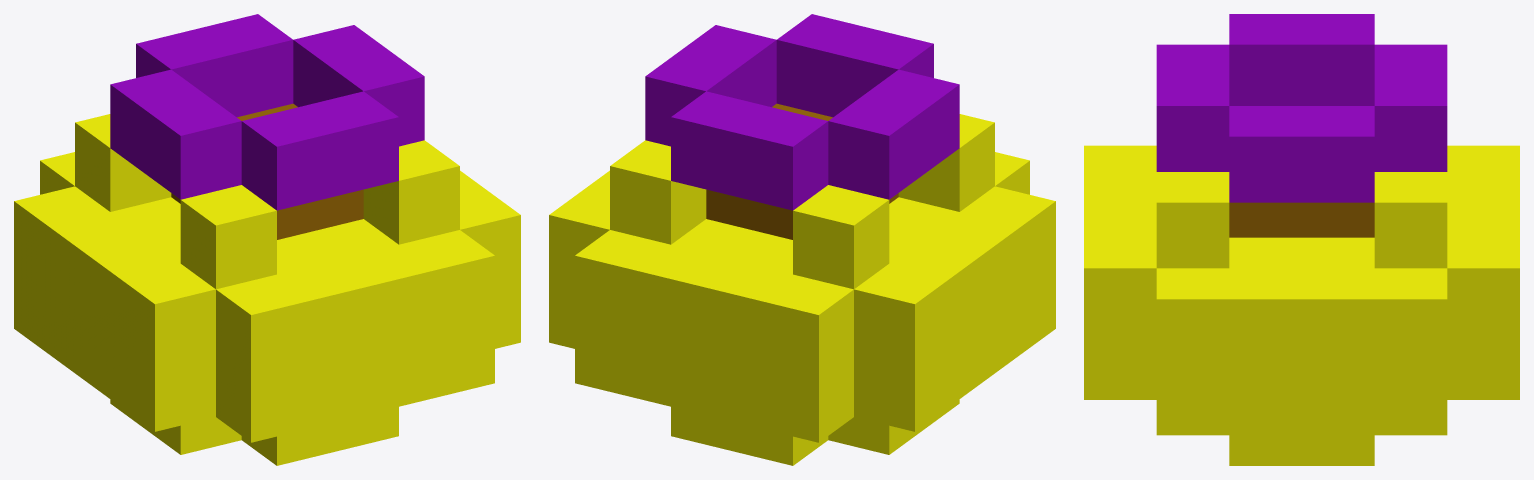
File: colect_01.obj
3 views of the same model, side by side, from view 1: azimuth 30°, elevation 25°; view 2: azimuth 150°, elevation 25°; view 3: azimuth 270°, elevation 25° (orthographic). The views are drawn at different scales.
Size of the model in its own units: 0.6 by 0.5 by 0.6.
1 material, 1 textured.
